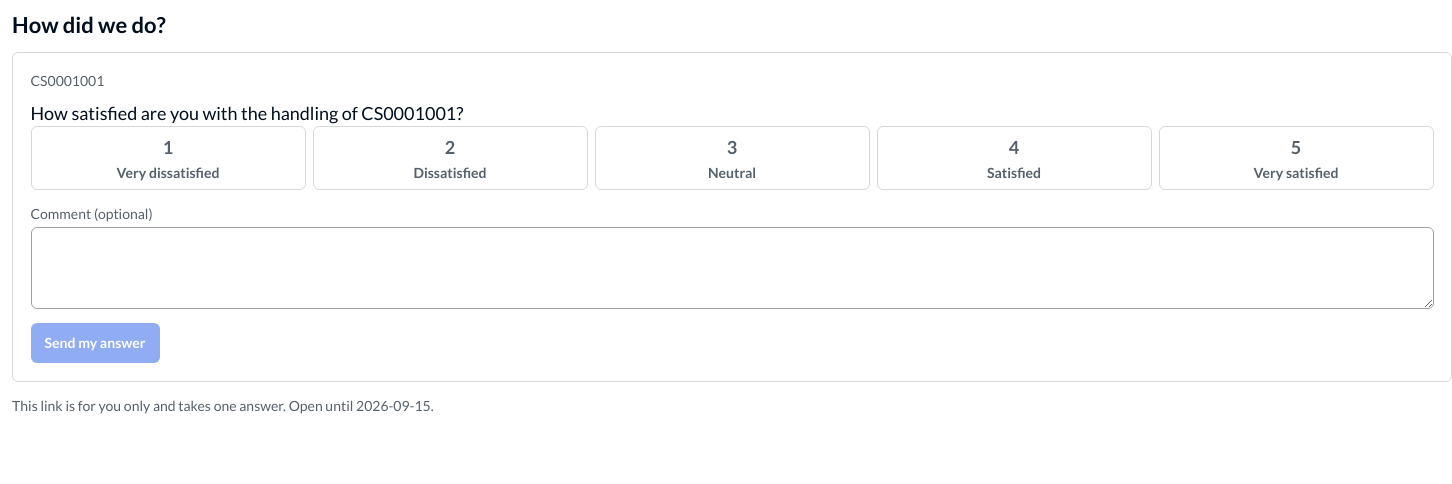
Test: survey email link › words the answer route's own refusal on a survey that closed between the read and the send
This screenshot has width=1452, height=484.
Click the button with aria-label "3, Neutral": (732, 158) [594,126,870,190]
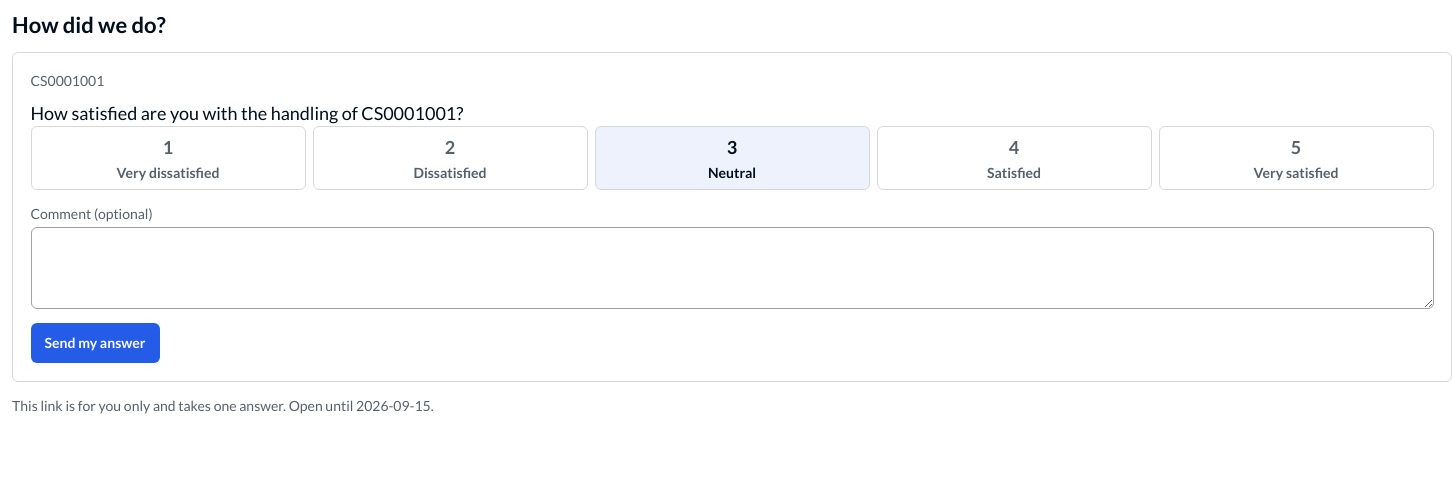
Click the button "Send my answer": (95, 343) [30,323,160,363]
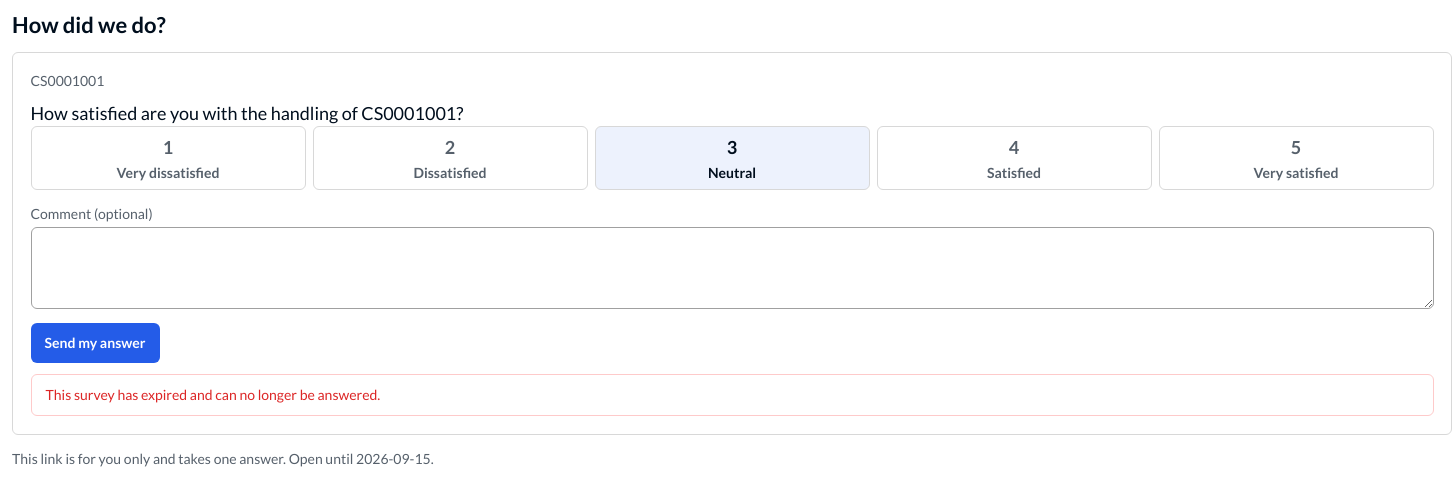
Now the message reads "This survey has expired and can no longer be answered.", box [46,386,380,403]
